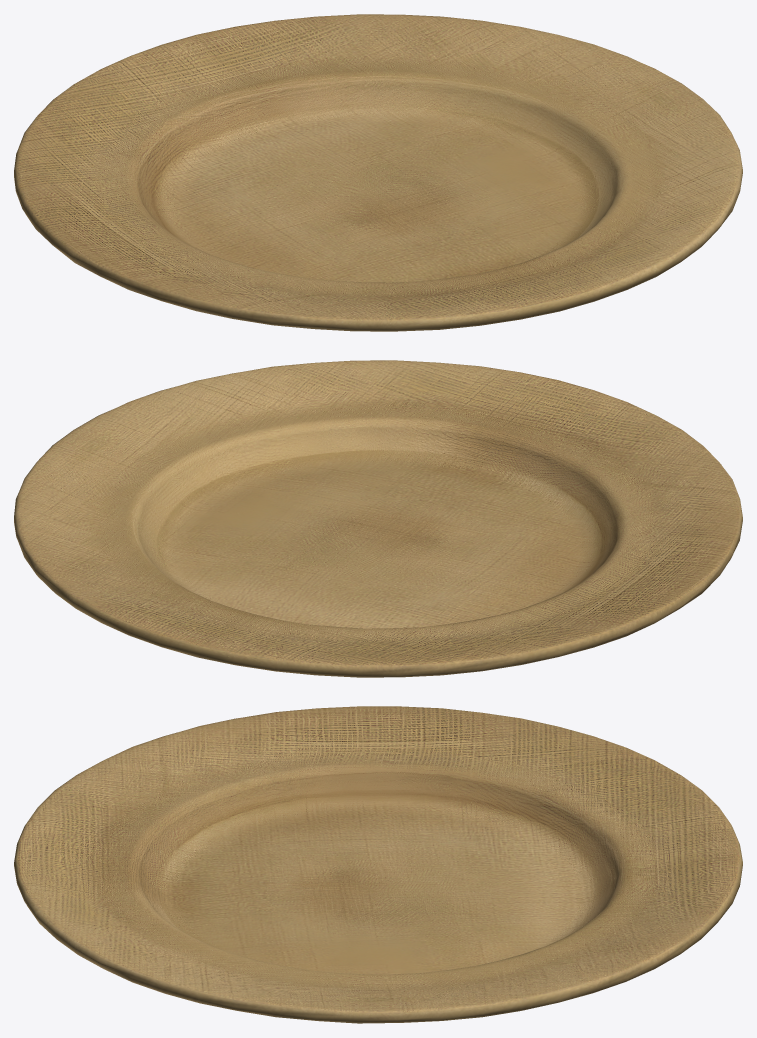
File: Gold_Charger_Plate_1InchTall_Tabletop_1I_0222025735_texture.glb
3 renders of one model, top to bottom at view 1: azimuth 30°, elevation 25°; view 2: azimuth 150°, elevation 25°; view 3: azimuth 270°, elevation 25°, orthographic.
Visible parts, largest first — view 1: Mesh_0.001; view 2: Mesh_0.001; view 3: Mesh_0.001.
Part boxes in pixels (x1,y1,x2,y2): Mesh_0.001: (14,14,742,331); Mesh_0.001: (14,360,742,677); Mesh_0.001: (14,706,742,1023).
Size of the model in its own units: 0.3017 by 0.0254 by 0.3017.
Materials: 1 (1 with a texture image).
